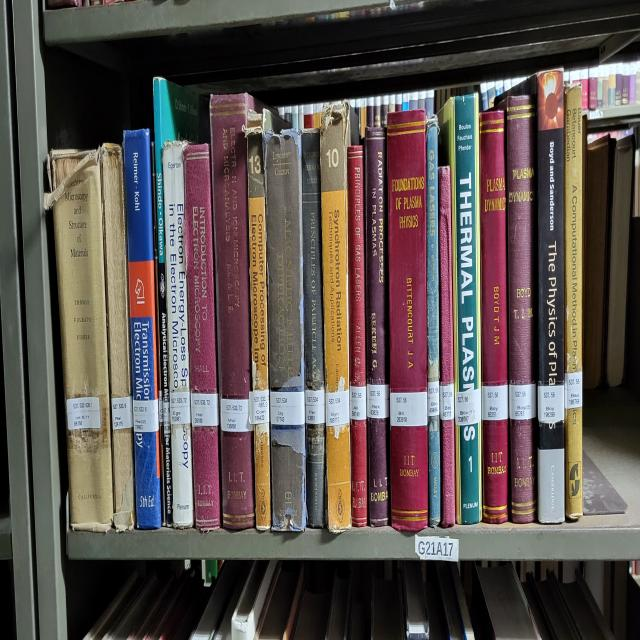Book: (152, 76, 209, 525), (45, 149, 112, 528), (210, 95, 261, 530), (440, 95, 482, 525), (388, 108, 428, 530), (265, 130, 306, 530), (530, 70, 565, 522), (124, 130, 161, 528), (184, 143, 220, 530), (320, 103, 351, 533), (505, 95, 536, 522), (101, 143, 135, 530), (162, 141, 194, 528), (480, 111, 509, 522), (245, 111, 271, 530), (365, 127, 390, 528), (301, 130, 325, 528), (564, 87, 582, 519), (348, 146, 368, 528), (439, 165, 455, 528), (426, 116, 440, 528)
Label: (390, 390, 428, 427), (270, 390, 305, 425), (66, 398, 100, 430), (220, 398, 251, 433), (538, 384, 564, 425), (455, 387, 481, 425), (481, 384, 509, 419), (191, 392, 219, 427), (509, 384, 536, 419), (132, 400, 159, 433), (326, 390, 350, 427), (366, 384, 390, 419), (305, 387, 325, 425), (111, 395, 132, 430), (170, 392, 191, 425), (565, 371, 582, 409), (252, 390, 270, 425), (440, 384, 455, 422), (350, 387, 366, 419), (428, 381, 439, 417), (162, 400, 170, 436), (159, 390, 164, 425)
